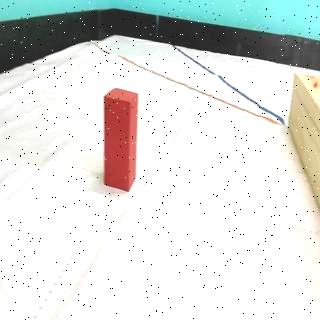redbox: (103, 86, 138, 192)
